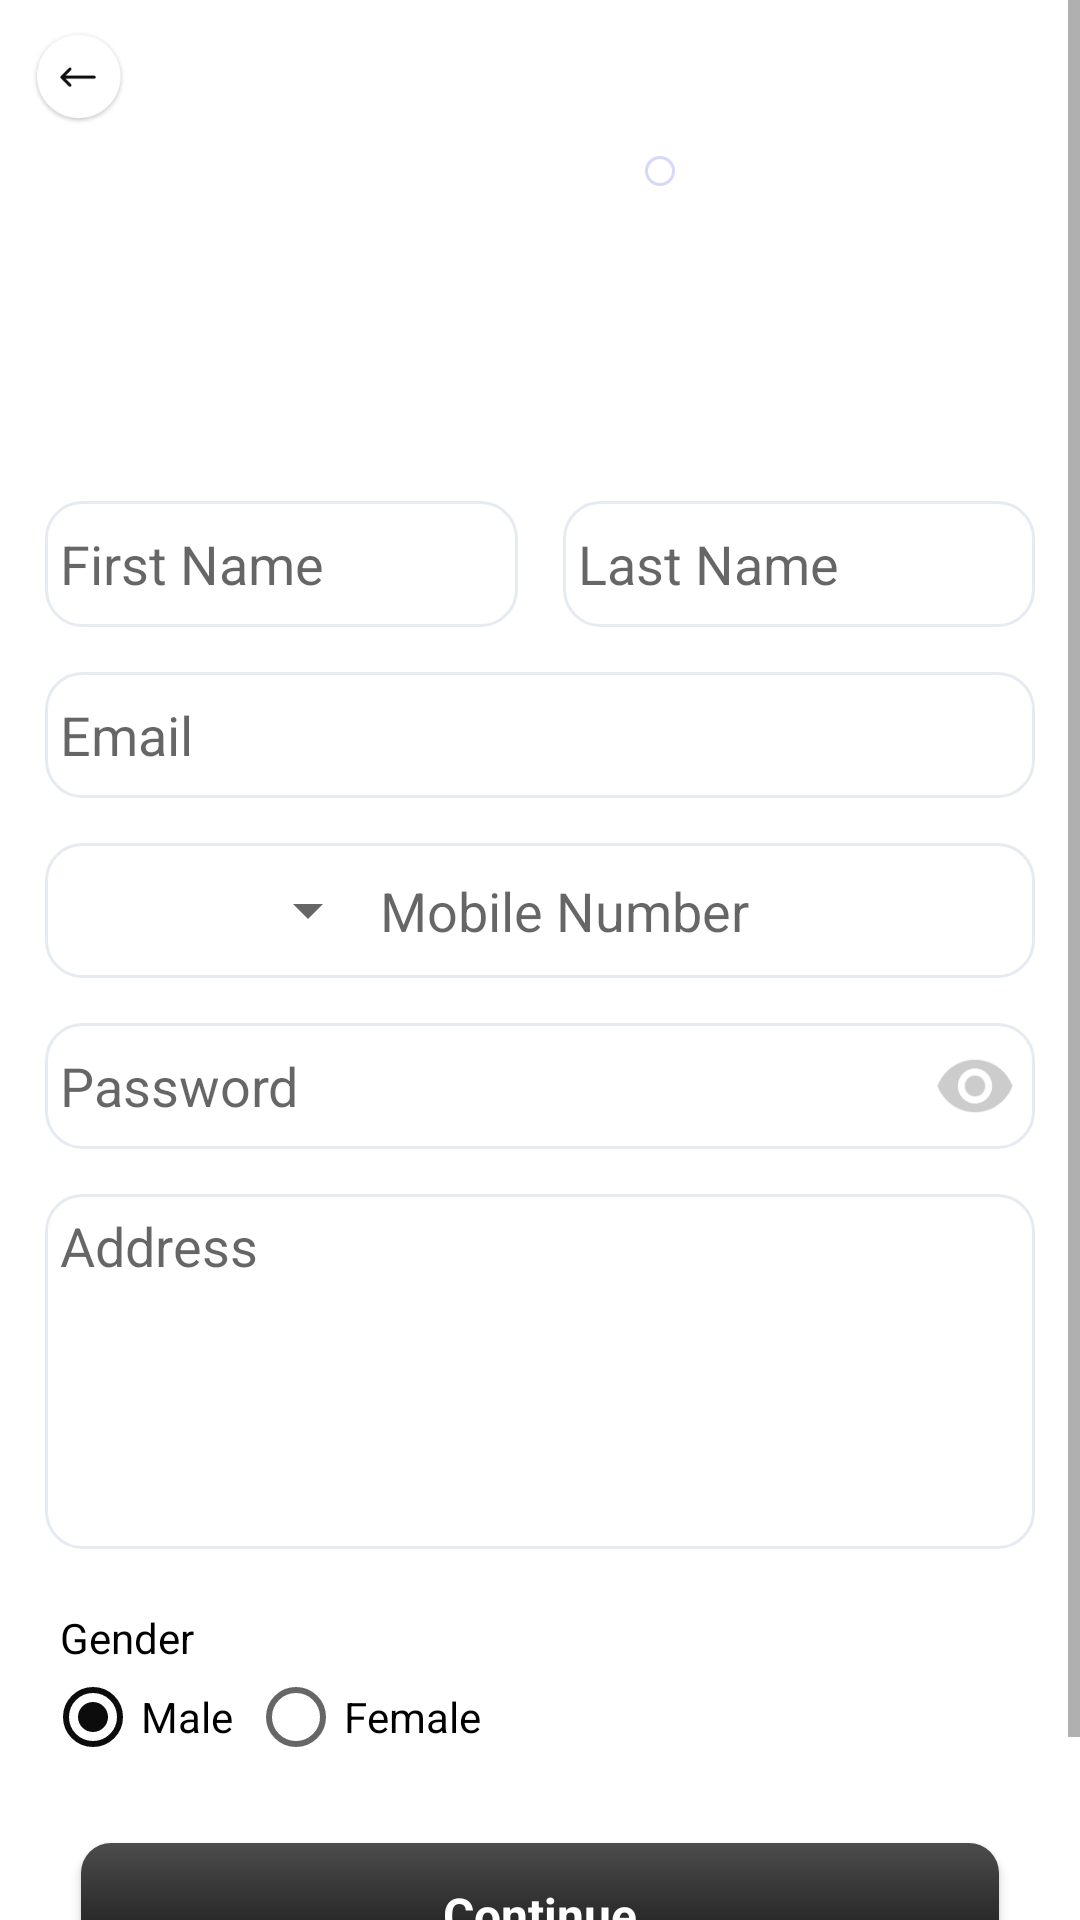

Where icons sit on this 1080x1920 app screen, as {"left": x1, "top": y1, "right": x2, "bottom": y2}:
back: {"left": 36, "top": 67, "right": 121, "bottom": 120}
eye: {"left": 938, "top": 1060, "right": 1012, "bottom": 1112}
